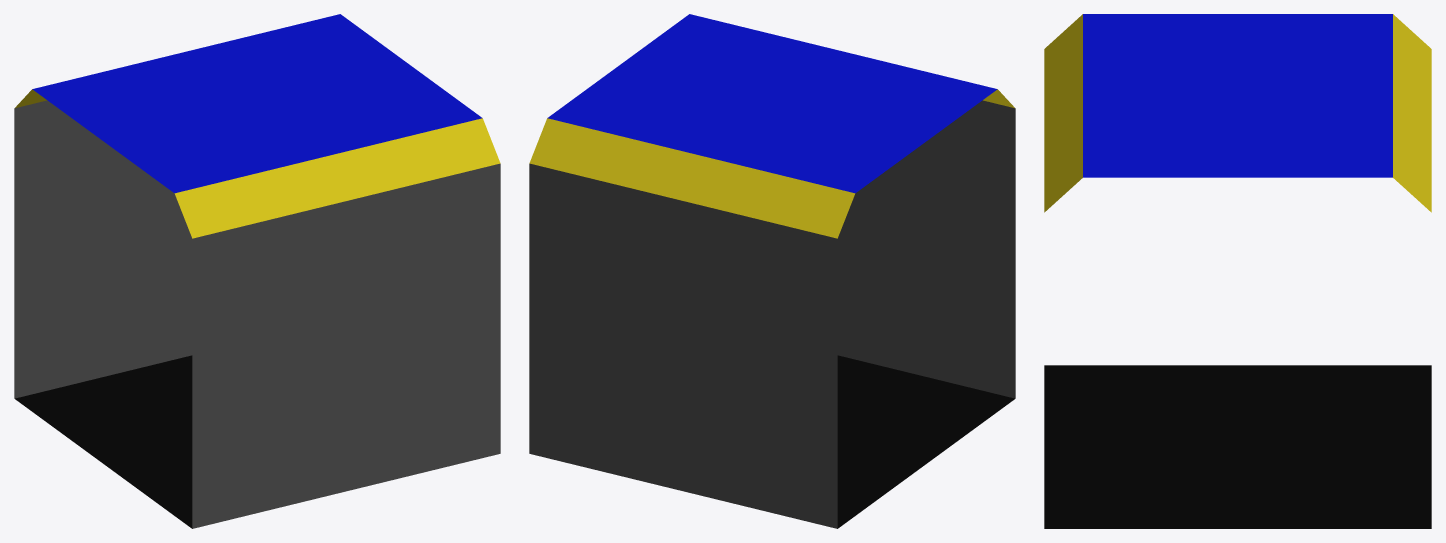
File: wall2.fbx
The picture shows the model from 3 angles, left to right: view 1: azimuth 30°, elevation 25°; view 2: azimuth 150°, elevation 25°; view 3: azimuth 270°, elevation 25°; orthographic projection. The views are drawn at different scales.
Parts seen in each view (by area): view 1: Plane; view 2: Plane; view 3: Plane.
Part boxes in pixels (bbox=[...]): Plane: bbox=[14, 14, 500, 528]; Plane: bbox=[529, 14, 1015, 528]; Plane: bbox=[1044, 14, 1431, 528].
Size of the model in its own units: 100000 by 100000 by 100000.
